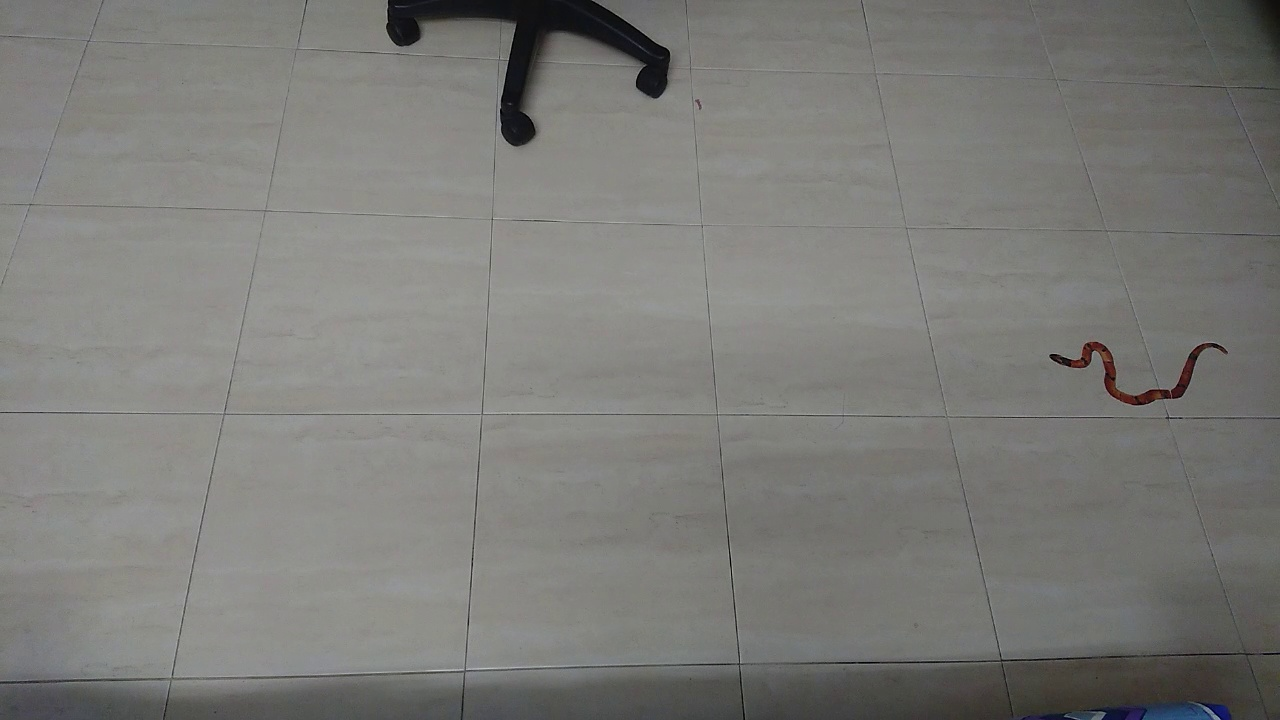snake: (1027, 320, 1243, 423)
